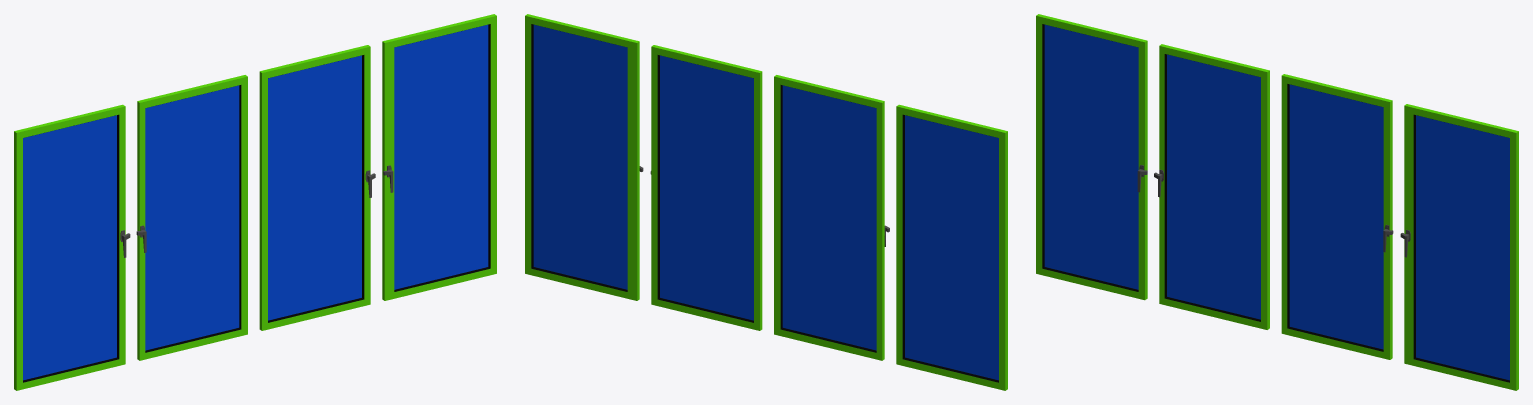
The model's file is SM_LR_Window_1.fbx.
3 renders of one model, left to right at view 1: azimuth 30°, elevation 25°; view 2: azimuth 150°, elevation 25°; view 3: azimuth 330°, elevation 25°, orthographic.
Parts seen in each view (by area): view 1: SM_LR_Window_1; view 2: SM_LR_Window_1; view 3: SM_LR_Window_1.
Boxes of the visible parts, bbox=[...] form: SM_LR_Window_1: bbox=[14, 14, 496, 390]; SM_LR_Window_1: bbox=[525, 14, 1007, 390]; SM_LR_Window_1: bbox=[1036, 14, 1518, 390].
Bounding box in the file's own units: 227 × 117 × 4.51.
